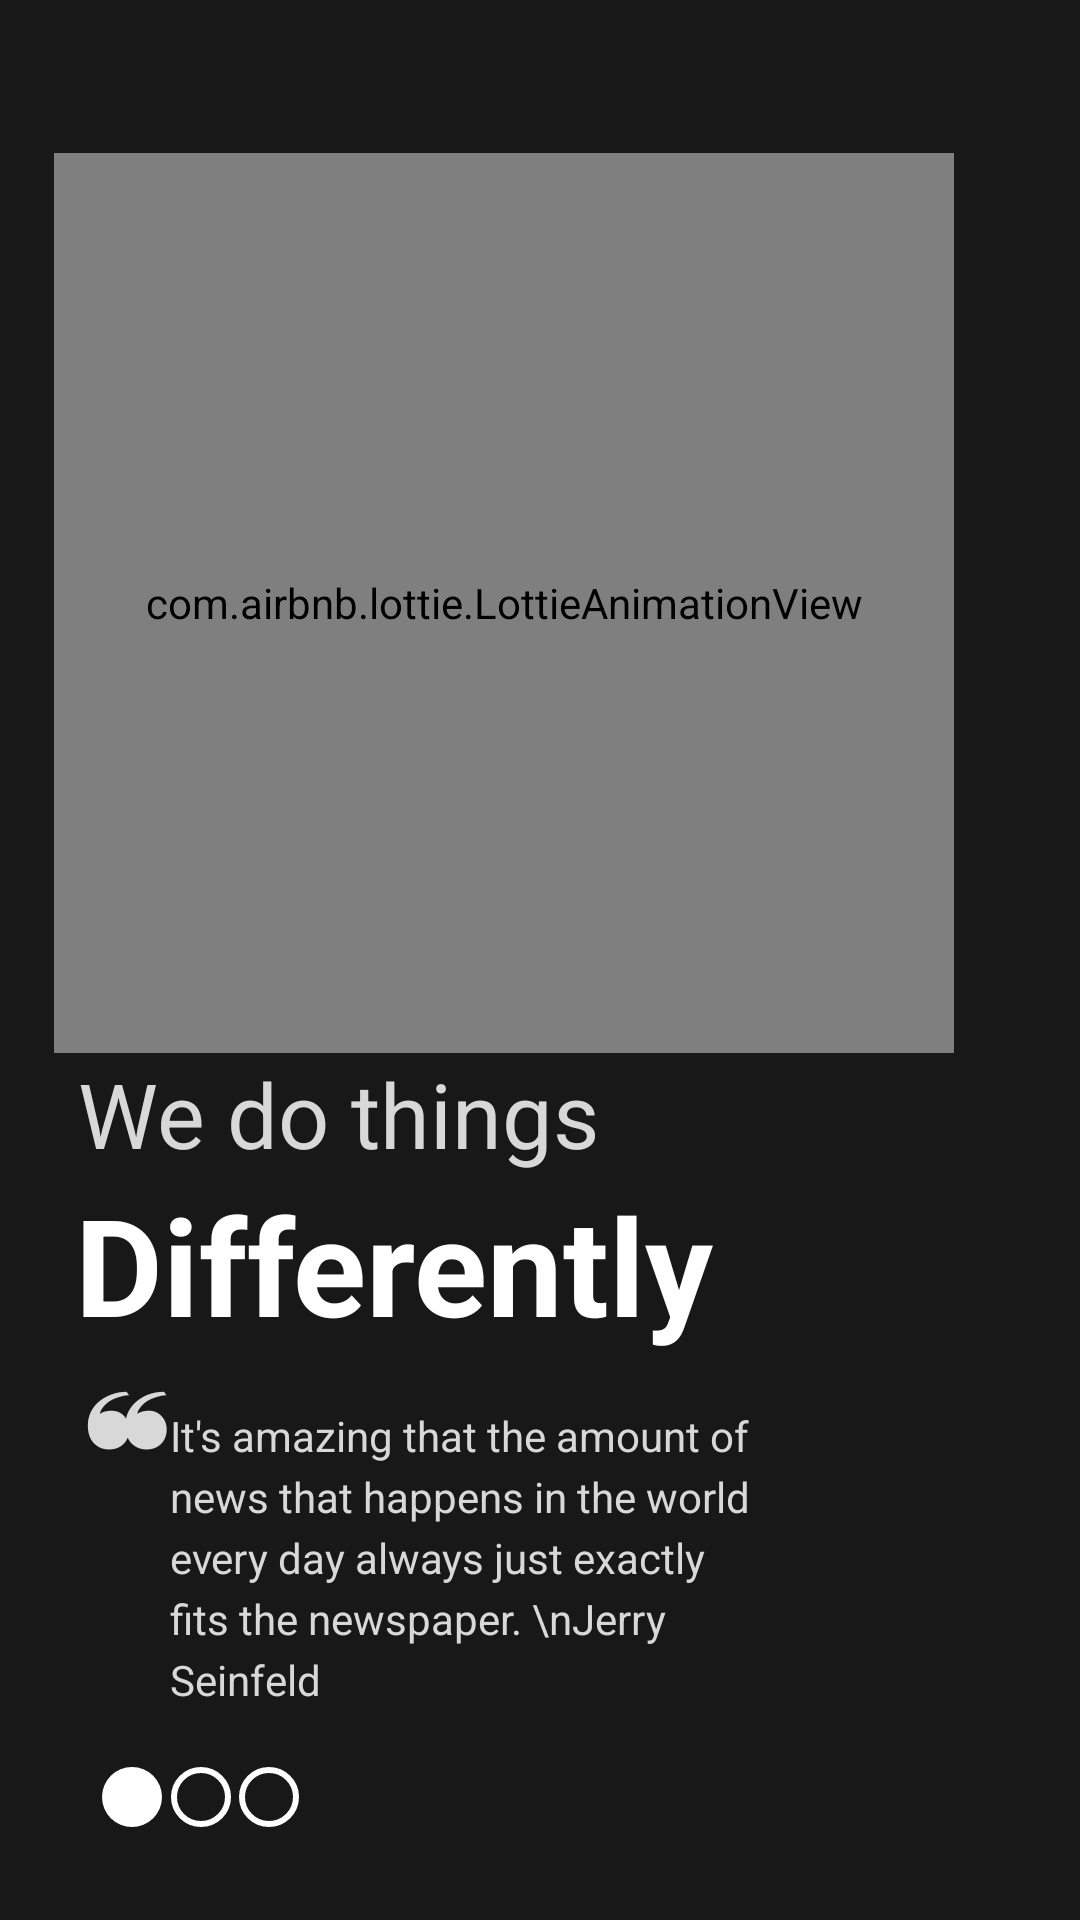

Named icons in this screenshot (1080×1920) and their bounding boxes, box(x1, y1, x2, y2):
circle: box(102, 1767, 162, 1827)
unfilled circle: box(171, 1767, 231, 1827), box(239, 1767, 299, 1827)
